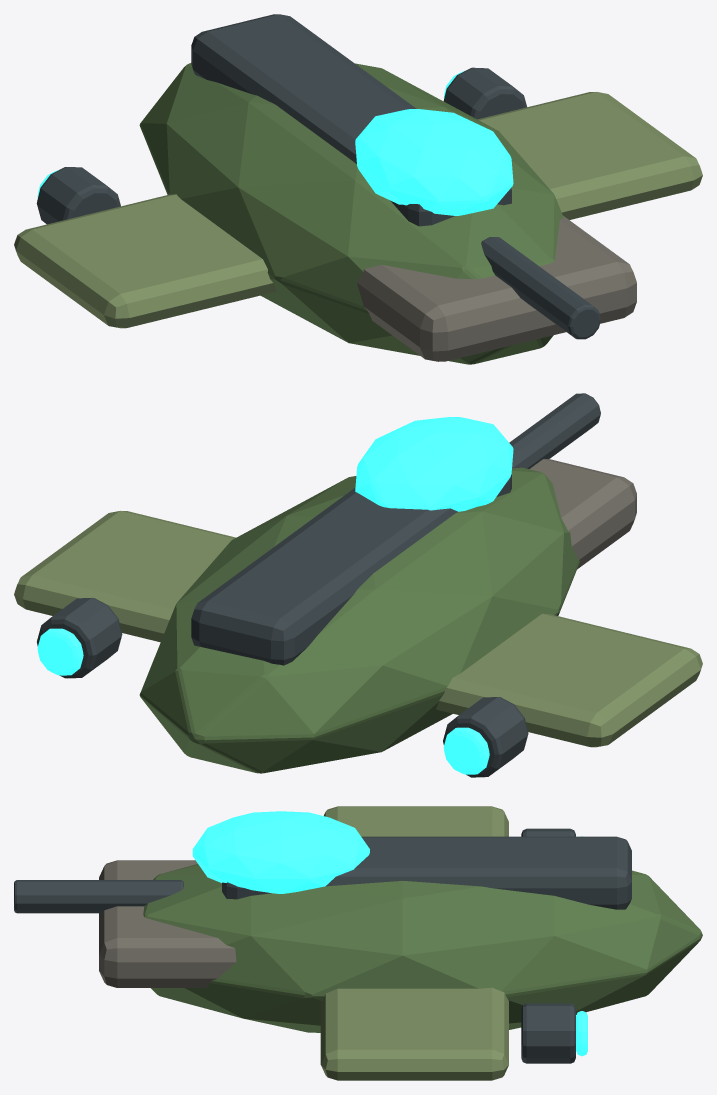
Rendered from human_capital.glb.
The picture shows the model from 3 angles, top to bottom: view 1: azimuth 30°, elevation 25°; view 2: azimuth 150°, elevation 25°; view 3: azimuth 270°, elevation 25°; orthographic projection. The views are drawn at different scales.
Parts seen in each view (by area): view 1: CommandHull, MainWing, ForwardDeck, ArmoredSpine, Bridge, RailLance, Drive, Drive.003; view 2: CommandHull, MainWing, ArmoredSpine, Bridge, ForwardDeck, RailLance, Drive.003, Drive, DriveGlow.003, DriveGlow; view 3: CommandHull, MainWing, ArmoredSpine, Bridge, ForwardDeck, RailLance, Drive.003, DriveGlow.003, Drive.
Part boxes in pixels (left/top/right/bottom): CommandHull: left=139, top=63, right=563, bottom=364; MainWing: left=14, top=92, right=702, bottom=328; ForwardDeck: left=357, top=215, right=636, bottom=361; ArmoredSpine: left=191, top=14, right=511, bottom=226; Bridge: left=355, top=109, right=513, bottom=215; RailLance: left=481, top=237, right=600, bottom=339; Drive: left=36, top=167, right=120, bottom=224; Drive.003: left=443, top=67, right=526, bottom=119; CommandHull: left=139, top=467, right=579, bottom=773; MainWing: left=14, top=510, right=702, bottom=747; ArmoredSpine: left=191, top=474, right=511, bottom=665; Bridge: left=355, top=417, right=513, bottom=511; ForwardDeck: left=529, top=459, right=636, bottom=569; RailLance: left=509, top=393, right=600, bottom=468; Drive.003: left=37, top=598, right=122, bottom=678; Drive: left=443, top=697, right=528, bottom=777; DriveGlow.003: left=37, top=628, right=83, bottom=675; DriveGlow: left=443, top=727, right=489, bottom=774; CommandHull: left=143, top=864, right=702, bottom=1032; MainWing: left=320, top=806, right=508, bottom=1080; ArmoredSpine: left=222, top=836, right=631, bottom=909; Bridge: left=192, top=811, right=369, bottom=893; ForwardDeck: left=99, top=860, right=236, bottom=987; RailLance: left=14, top=880, right=183, bottom=913; Drive.003: left=521, top=1003, right=575, bottom=1063; DriveGlow.003: left=576, top=1011, right=587, bottom=1056; Drive: left=521, top=828, right=575, bottom=836.
Size of the model in its own units: 2 by 0.72 by 2.27.
